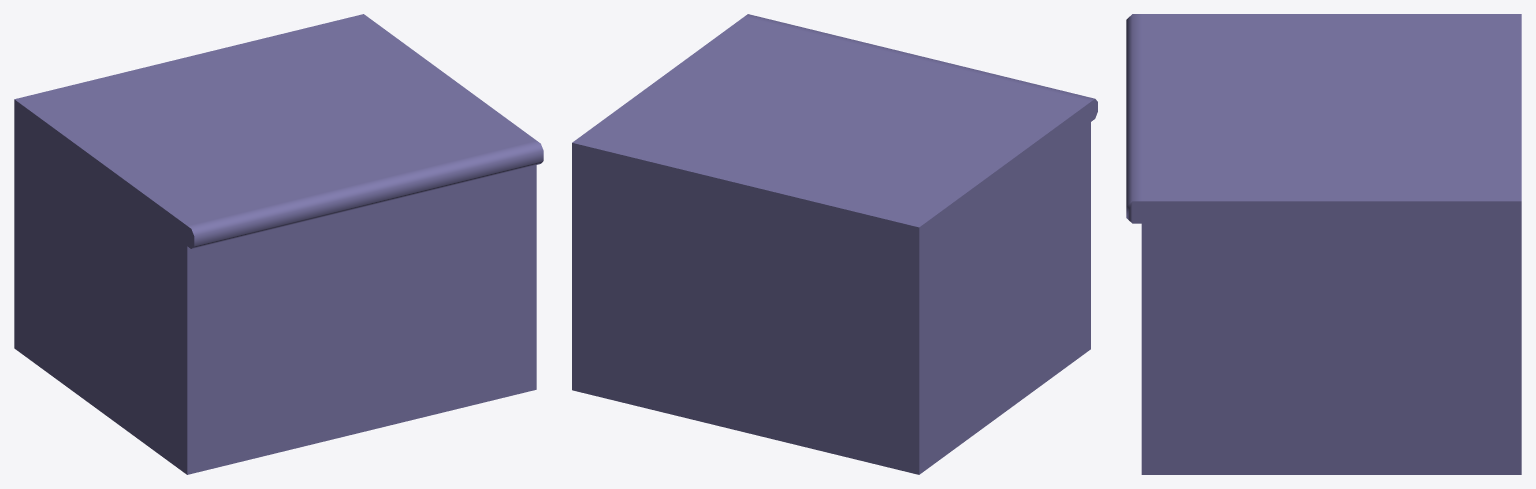
Rendered from BlockACocina03.fbx.
The picture shows the model from 3 angles, left to right: view 1: azimuth 30°, elevation 25°; view 2: azimuth 150°, elevation 25°; view 3: azimuth 270°, elevation 25°; orthographic projection. The views are drawn at different scales.
Parts seen in each view (by area): view 1: MesadaCocina4; view 2: MesadaCocina4; view 3: MesadaCocina4.
Part boxes in pixels (x1,y1,x2,y2): MesadaCocina4: (14, 14, 543, 474); MesadaCocina4: (572, 14, 1097, 474); MesadaCocina4: (1126, 14, 1521, 474).
Size of the model in its own units: 1.17 by 0.8 by 1.05.
